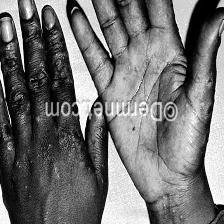Non-Cancerous Skin Condition: (154, 48, 215, 142), (135, 163, 190, 224), (4, 127, 56, 172), (0, 31, 25, 111), (26, 26, 58, 76)
